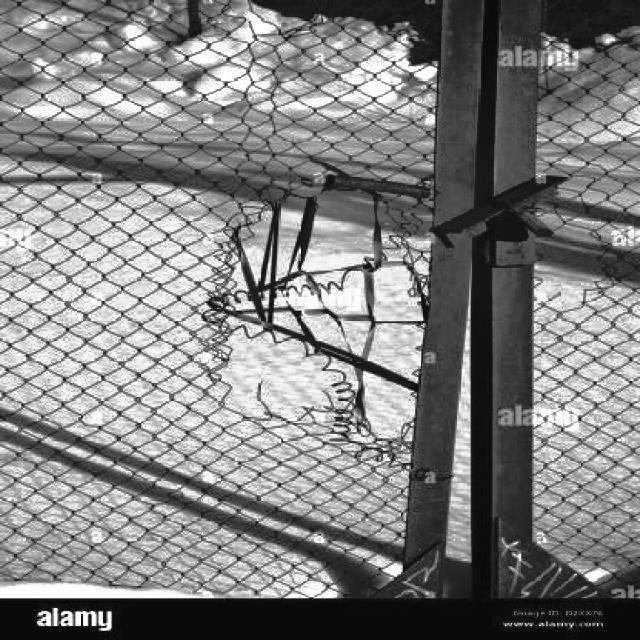anomaly-fence: (164, 113, 535, 509)
